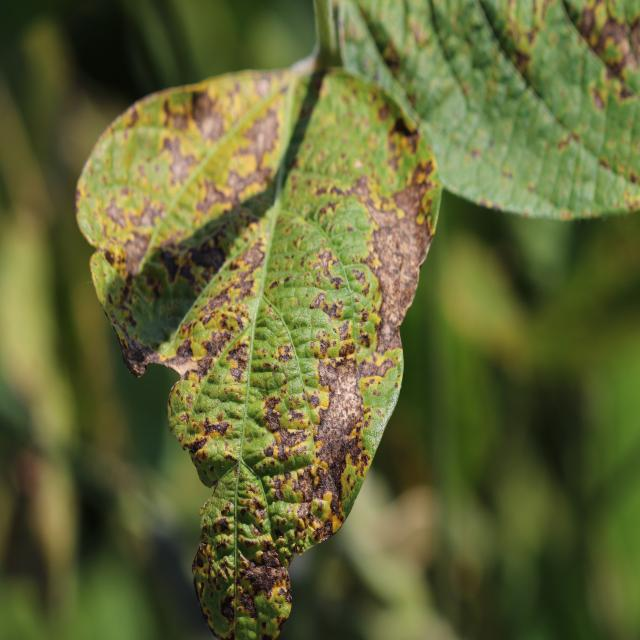Bacterial_Blight: (356, 156, 444, 335), (307, 355, 369, 517), (573, 3, 640, 90), (155, 228, 238, 297), (220, 104, 285, 192), (151, 130, 206, 204), (296, 248, 351, 296), (388, 180, 432, 225), (111, 229, 153, 274), (241, 559, 287, 600), (103, 195, 145, 234), (188, 89, 221, 131), (122, 337, 158, 375), (197, 328, 236, 362), (509, 42, 535, 77), (197, 417, 232, 440), (279, 426, 311, 451), (291, 470, 315, 503), (578, 4, 598, 41), (262, 405, 284, 433), (220, 596, 236, 623)
Soybean: (76, 57, 441, 640)
